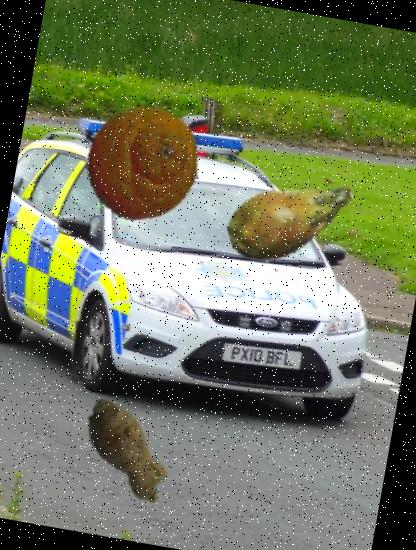Cactus: (216, 144, 367, 295)
Ginger: (58, 381, 197, 520)
Mandarine: (73, 94, 212, 232)
